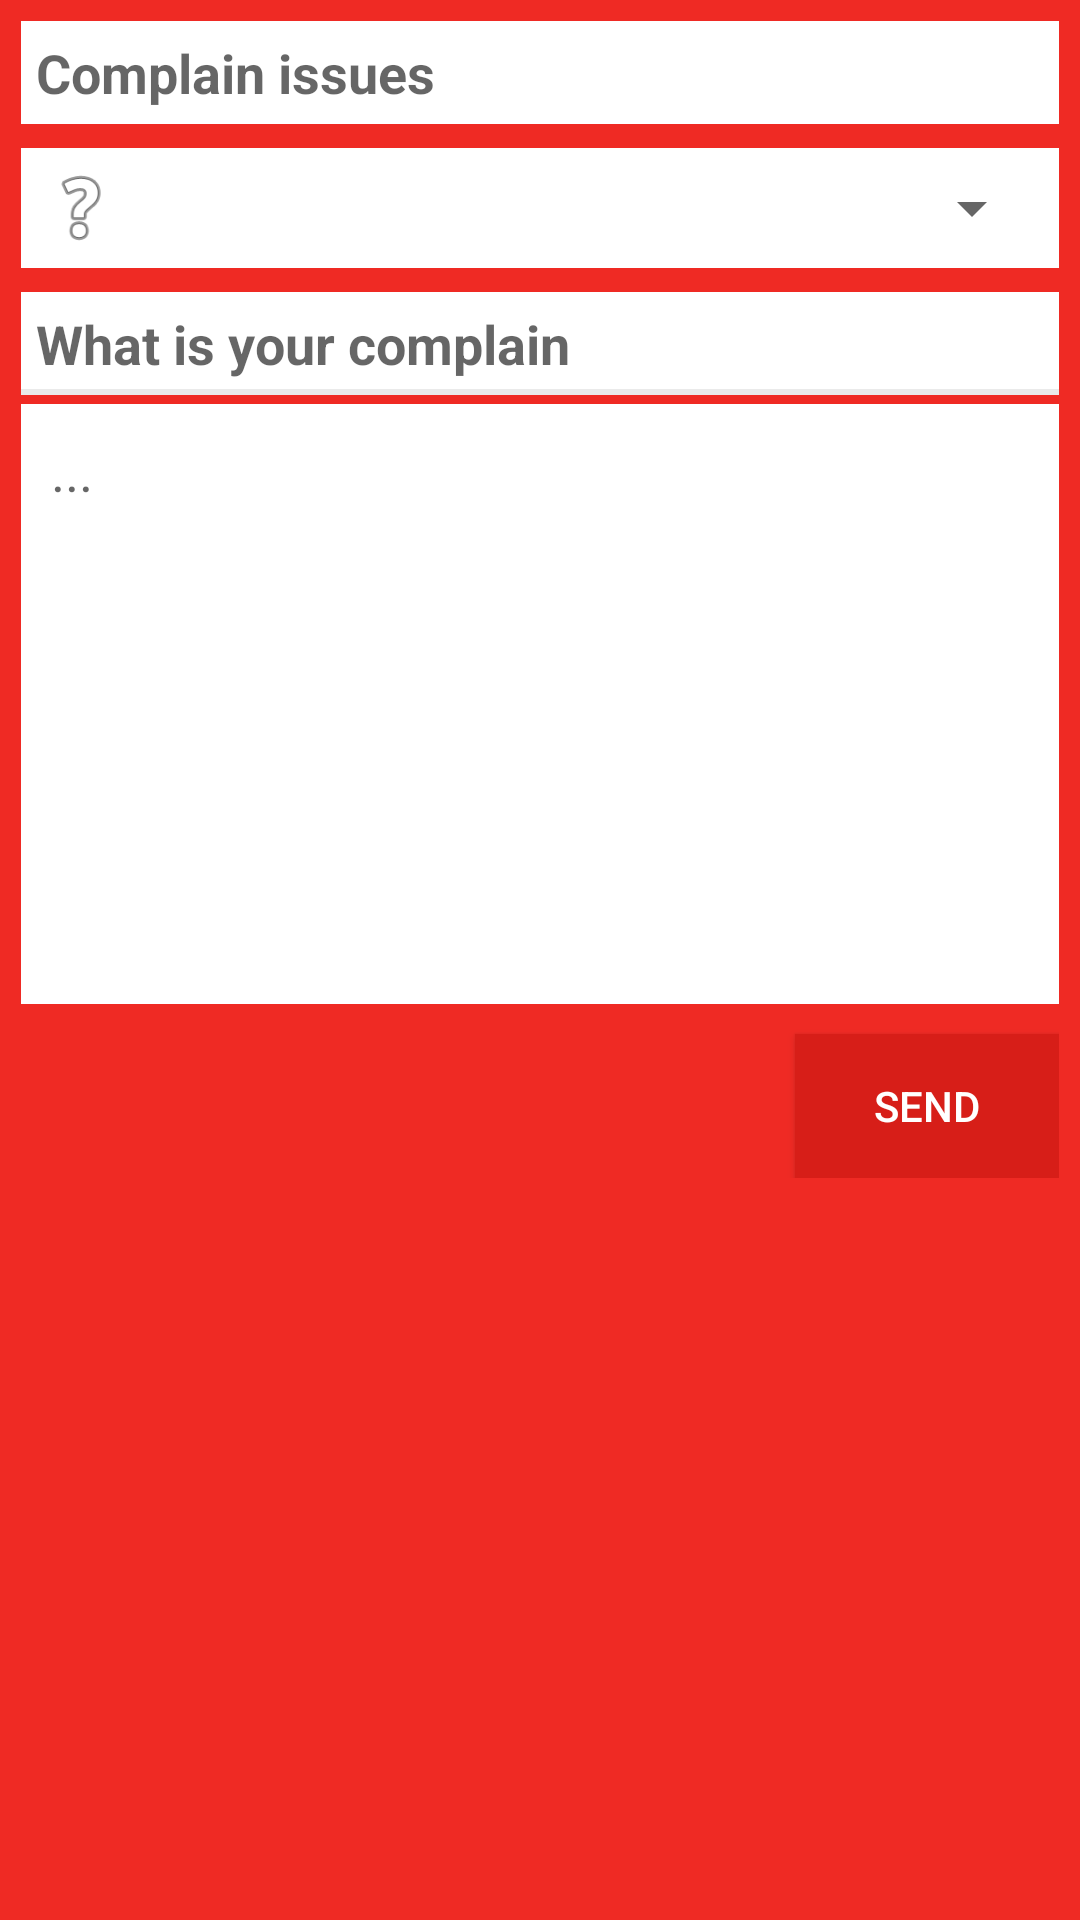

Icon bounding boxes for this 1080w x 1920h phone screenshot, format (x1, y1, x2, y2):
help: (61, 176, 101, 240)
